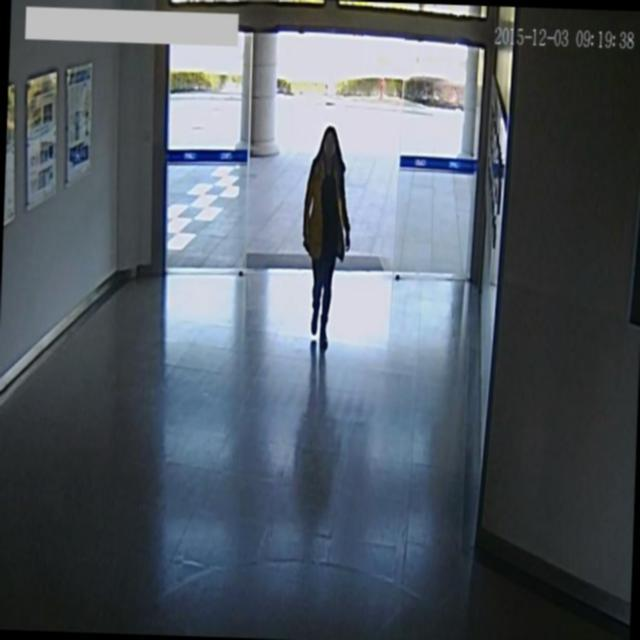person: (289, 121, 361, 359)
